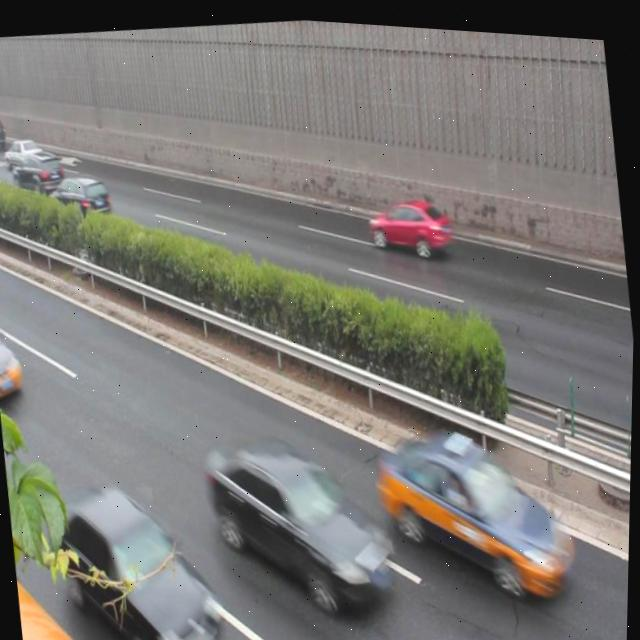car: (378, 398, 582, 615), (206, 416, 405, 636), (50, 468, 236, 640), (359, 182, 456, 266), (50, 163, 112, 222), (0, 300, 29, 413), (19, 151, 67, 201), (3, 130, 49, 174), (0, 111, 12, 156)
